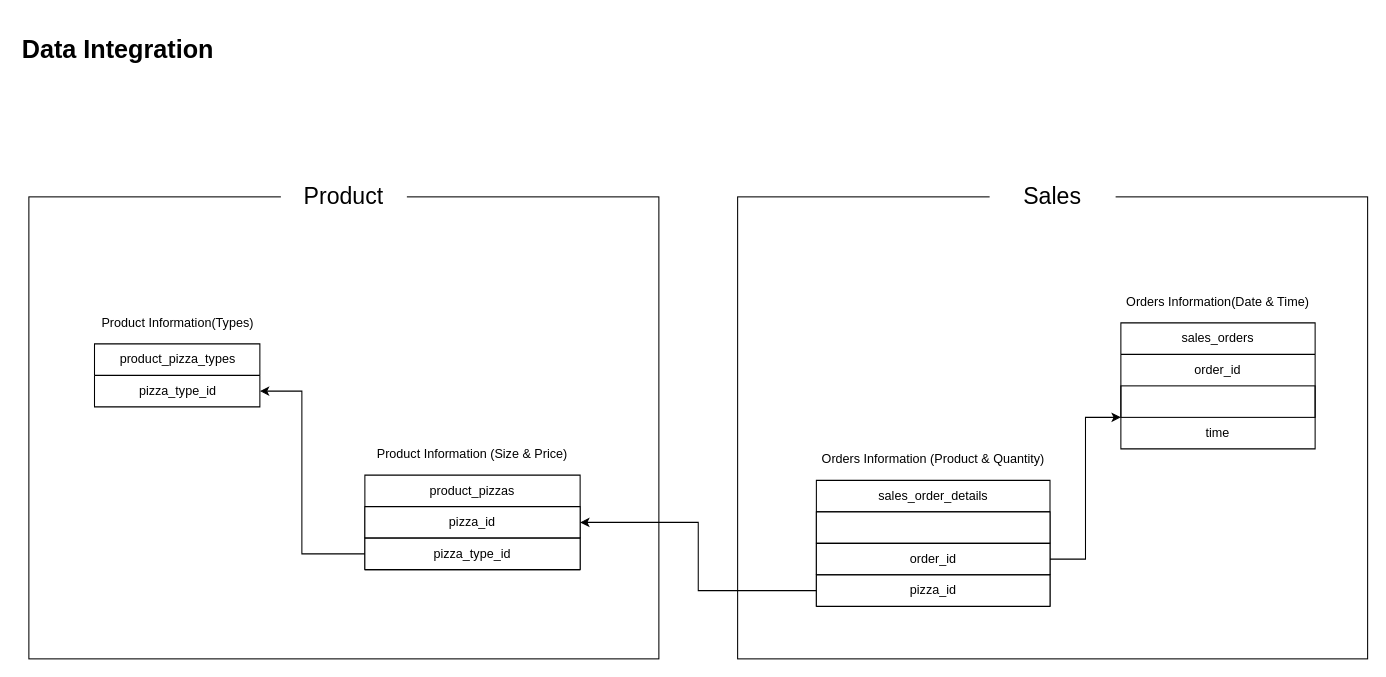
Image size: 1386x677. Some labels were removed from this diagram. Each missing label, with the centre of its shape:
data: the point at 1217,401
order_details_id: the point at 932,527
